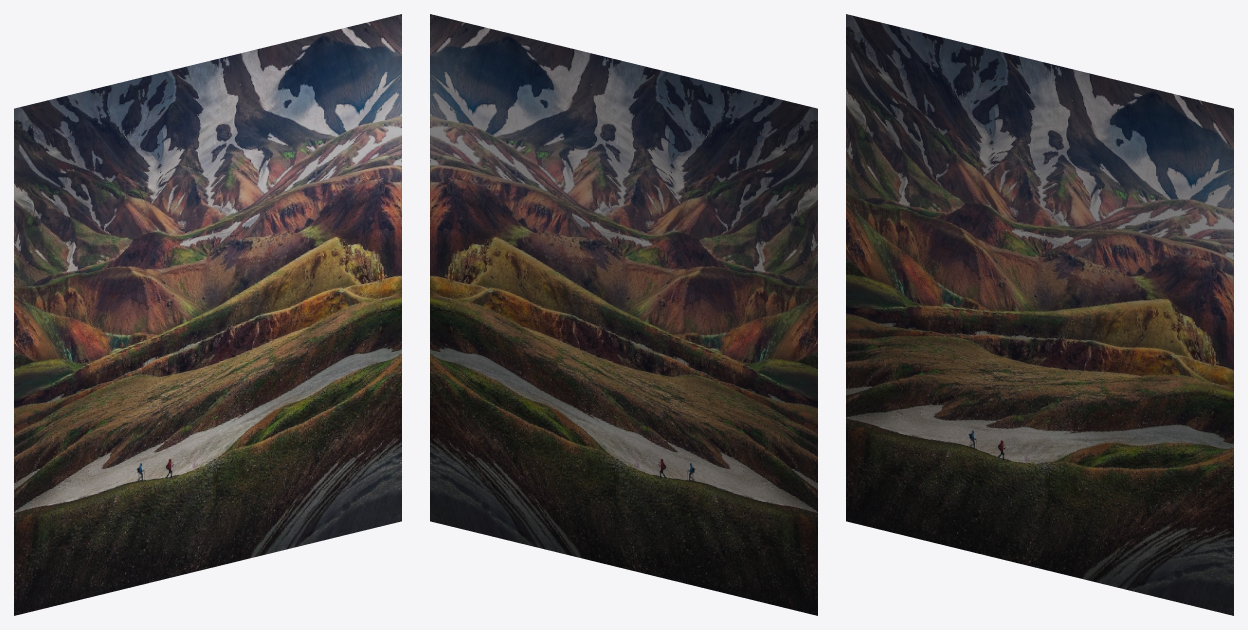
Rendered from iceland.obj.
3 renders of one model, left to right at view 1: azimuth 30°, elevation 25°; view 2: azimuth 150°, elevation 25°; view 3: azimuth 330°, elevation 25°, orthographic.
Visible parts, largest first — view 1: Layer 1 Mesh; view 2: Layer 1 Mesh; view 3: Layer 1 Mesh.
Part boxes in pixels (x1,y1,x2,y2): Layer 1 Mesh: (14, 14, 401, 615); Layer 1 Mesh: (430, 14, 817, 615); Layer 1 Mesh: (846, 14, 1233, 615).
Size of the model in its own units: 381 by 476 by 0.
